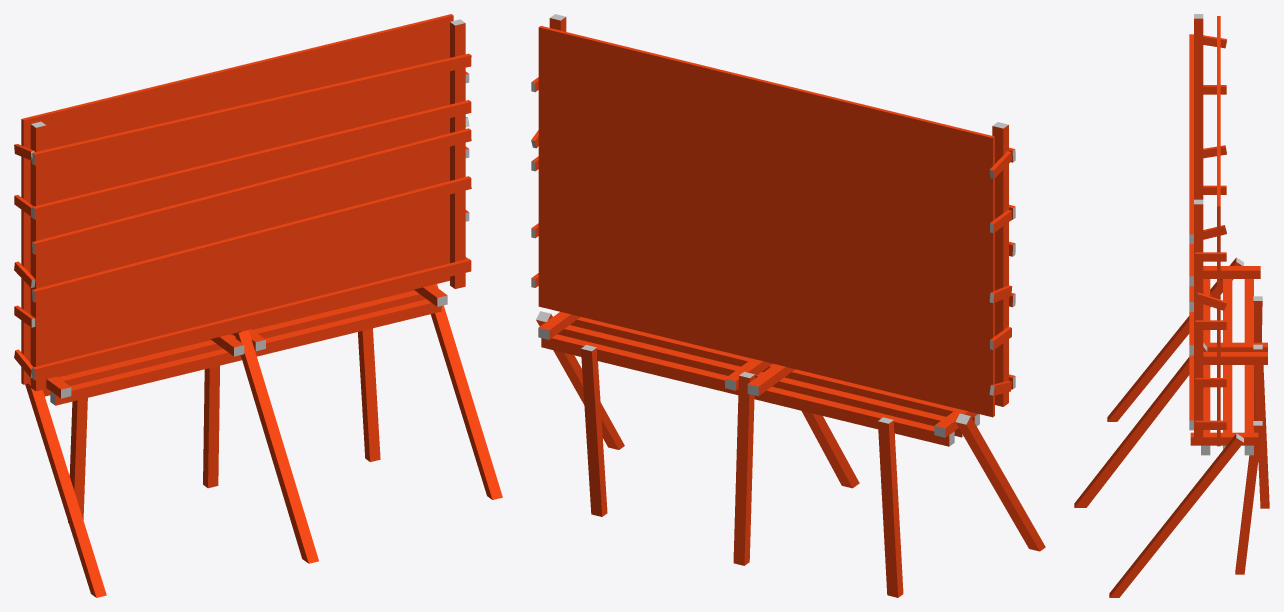
File: tableau.obj
3 views of the same model, side by side, from view 1: azimuth 30°, elevation 25°; view 2: azimuth 150°, elevation 25°; view 3: azimuth 270°, elevation 25° (orthographic). The views are drawn at different scales.
Parts seen in each view (by area): view 1: tableau.001; view 2: tableau.001; view 3: tableau.001.
Part boxes in pixels (x1,y1,x2,y2): tableau.001: [14, 14, 502, 597]; tableau.001: [531, 14, 1045, 597]; tableau.001: [1074, 14, 1269, 597].
Bounding box in the file's own units: 0.119 × 0.1138 × 0.0506.
